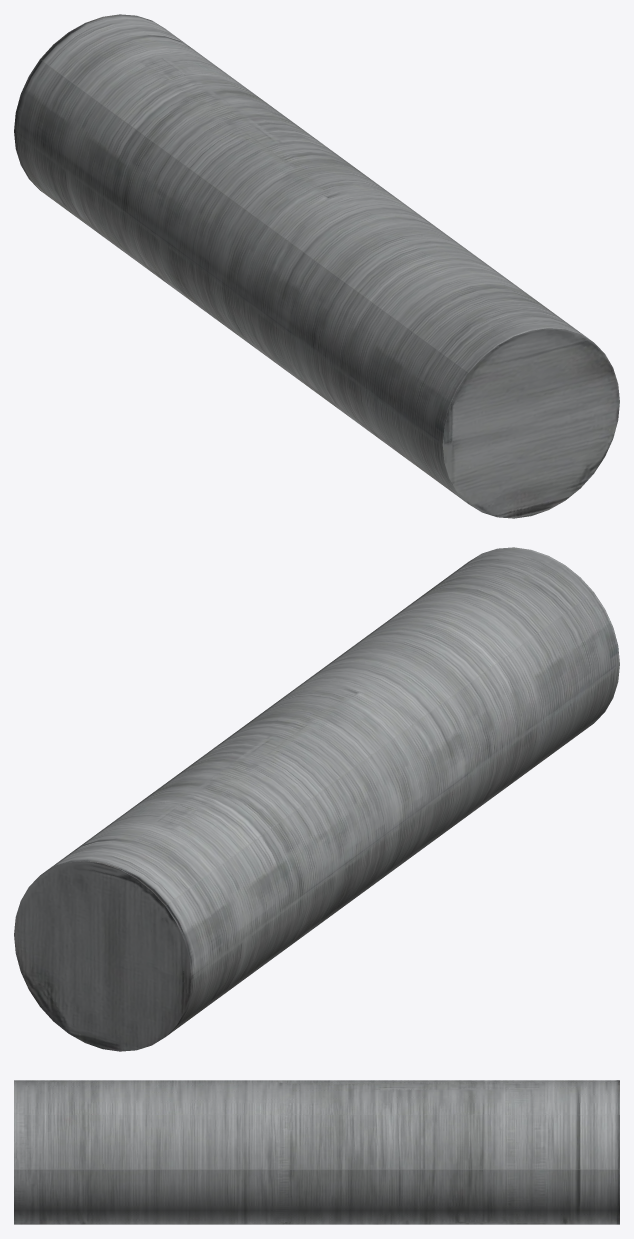
The model's file is body__front_corner.glb.
The picture shows the model from 3 angles, top to bottom: view 1: azimuth 30°, elevation 25°; view 2: azimuth 150°, elevation 25°; view 3: azimuth 270°, elevation 25°; orthographic projection. The views are drawn at different scales.
Visible parts, largest first — view 1: geometry_0; view 2: geometry_0; view 3: geometry_0.
Boxes of the visible parts, x1,y1,x2,y2 form: geometry_0: (14,14,619,518); geometry_0: (14,547,619,1051); geometry_0: (14,1080,619,1224).
Bounding box in the file's own units: 0.08 × 0.08 × 0.335.
1 material, 1 textured.
